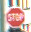stopsign: (6, 8, 26, 27)
